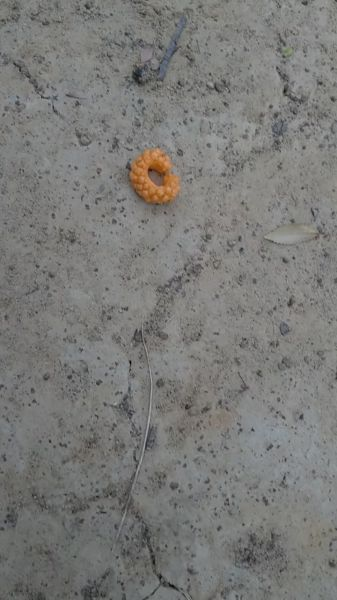eggs: (125, 138, 190, 209)
